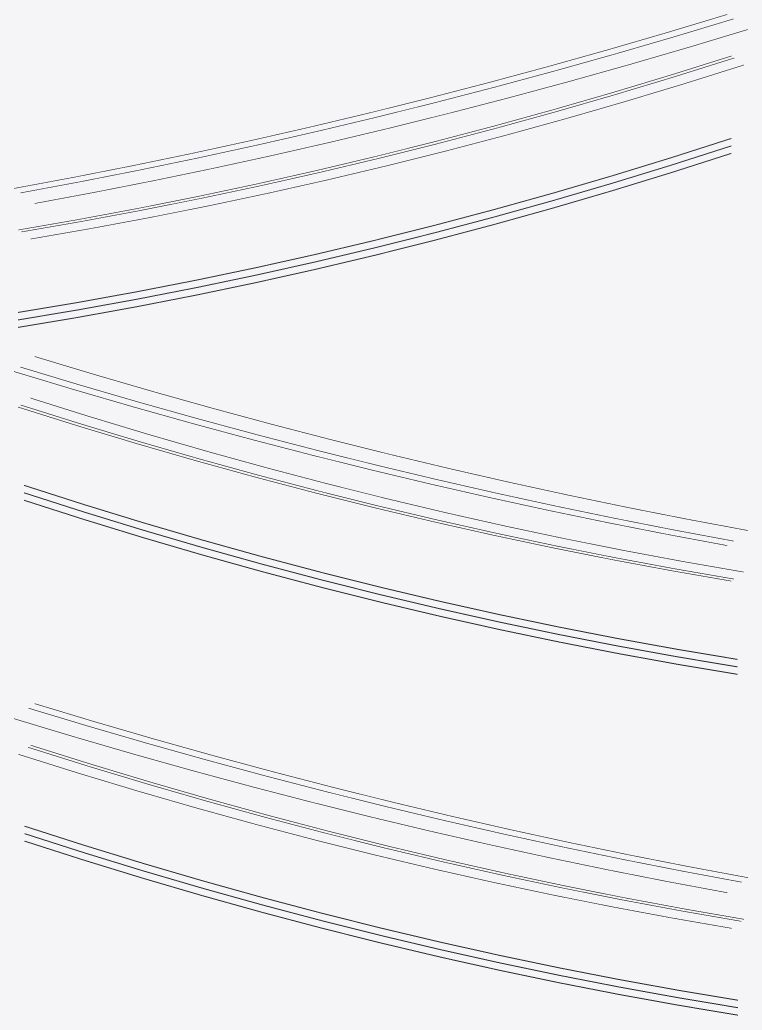
Rendered from SM_Street_PowerLine_3000_01.gltf.
3 views of the same model, one above another, from view 1: azimuth 30°, elevation 25°; view 2: azimuth 150°, elevation 25°; view 3: azimuth 330°, elevation 25° (orthographic).
Parts seen in each view (by area): view 1: SM_Street_PowerLine_3000_01; view 2: SM_Street_PowerLine_3000_01; view 3: SM_Street_PowerLine_3000_01.
Boxes of the visible parts, box(x1,y1,x2,y2) form: SM_Street_PowerLine_3000_01: box(14, 14, 747, 327); SM_Street_PowerLine_3000_01: box(14, 356, 747, 674); SM_Street_PowerLine_3000_01: box(14, 703, 747, 1015).
Bounding box in the file's own units: 30.14 × 5.98 × 1.52.
1 material, 1 textured.
